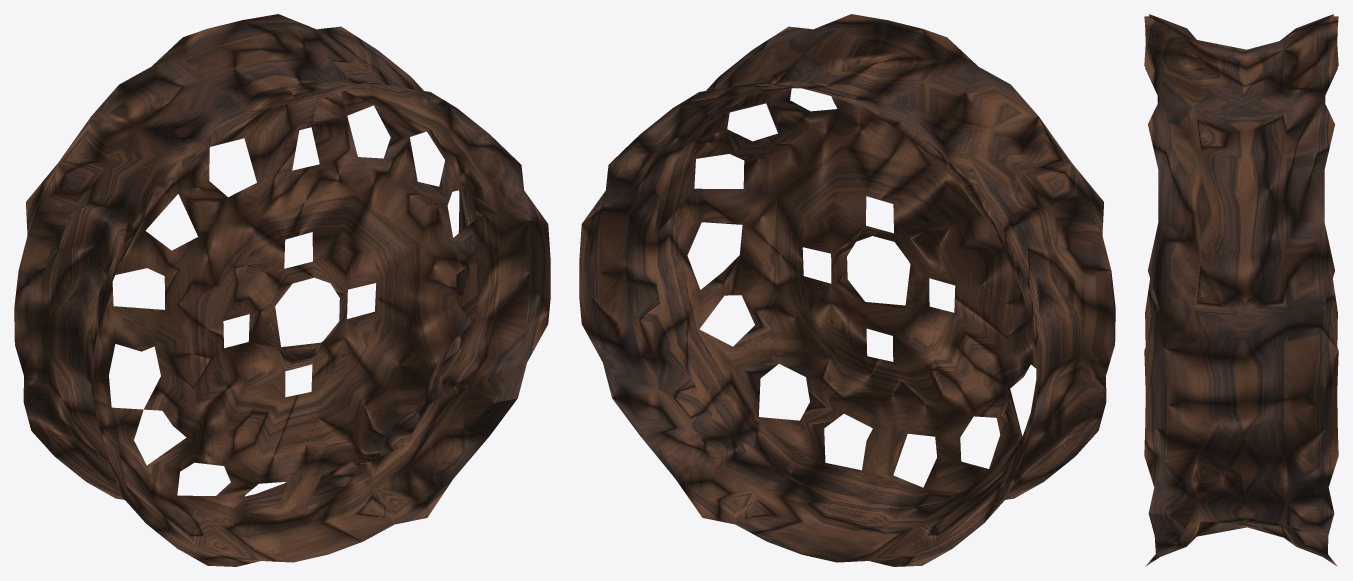
Rendered from rusted_wheel_rim_02.glb.
3 renders of one model, left to right at view 1: azimuth 30°, elevation 25°; view 2: azimuth 150°, elevation 25°; view 3: azimuth 270°, elevation 25°, orthographic. The views are drawn at different scales.
Parts seen in each view (by area): view 1: rusted_wheel_rim_02; view 2: rusted_wheel_rim_02; view 3: rusted_wheel_rim_02.
Boxes of the visible parts, left/top/right/bottom form: rusted_wheel_rim_02: left=14, top=14, right=550, bottom=566; rusted_wheel_rim_02: left=579, top=14, right=1115, bottom=566; rusted_wheel_rim_02: left=1144, top=14, right=1338, bottom=566.
Bounding box in the file's own units: 0.3304 × 0.3304 × 0.1175.
Materials: 1 (1 with a texture image).
